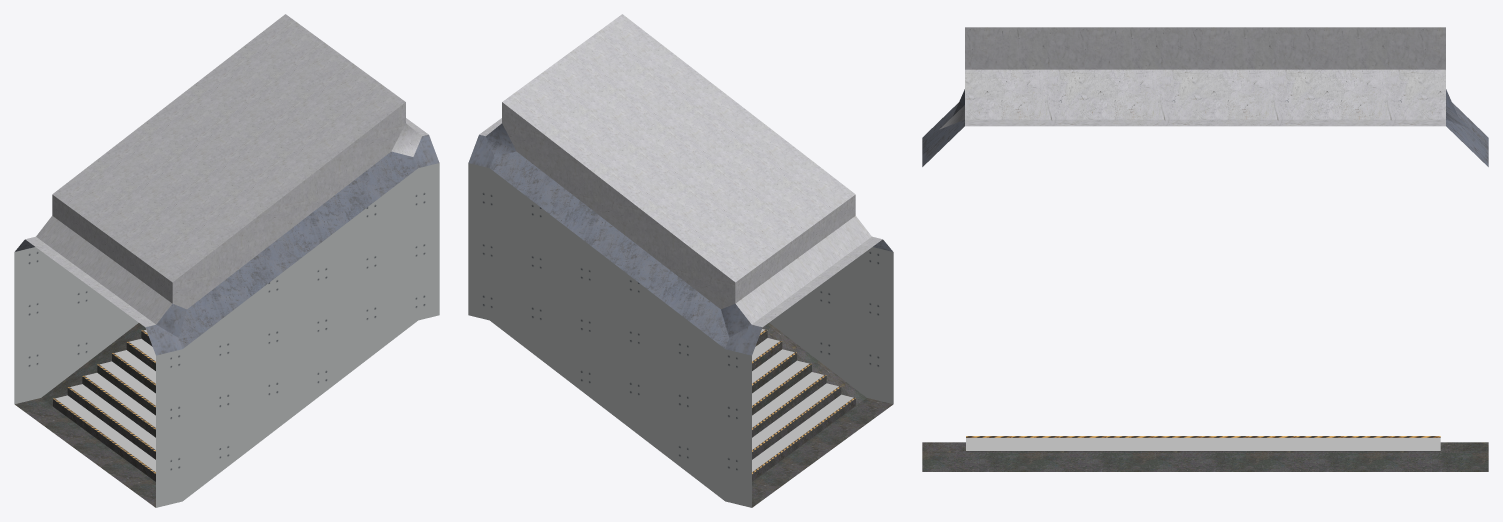
The model's file is starship_stair.FBX.
3 renders of one model, left to right at view 1: azimuth 30°, elevation 25°; view 2: azimuth 150°, elevation 25°; view 3: azimuth 270°, elevation 25°, orthographic. The views are drawn at different scales.
Parts seen in each view (by area): view 1: Stair; view 2: Stair; view 3: Stair.
Boxes of the visible parts, <box> form: Stair: <box>14,14,439,507</box>; Stair: <box>468,14,893,507</box>; Stair: <box>922,27,1488,471</box>.
Bounding box in the file's own units: 2.82 × 3.23 × 2.43.
